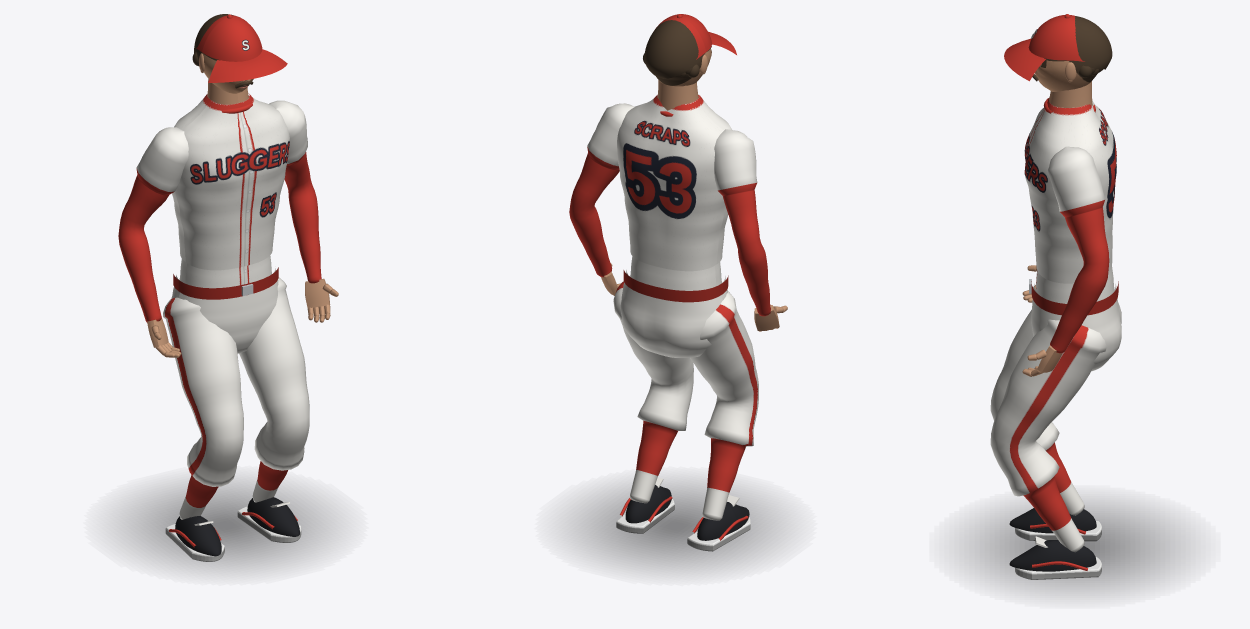
File: player_12_home.glb
3 views of the same model, side by side, from view 1: azimuth 30°, elevation 25°; view 2: azimuth 150°, elevation 25°; view 3: azimuth 270°, elevation 25° (orthographic). The views are drawn at different scales.
Parts seen in each view (by area): view 1: player_12_home, object 42, object 44, object 2; view 2: player_12_home, object 29, object 2, object 42; view 3: player_12_home, object 42, object 29, object 46, object 44, object 2.
Boxes of the visible parts, x1,y1,x2,y2 form: player_12_home: (117, 93, 334, 571); object 42: (196, 15, 262, 61); object 44: (208, 49, 287, 82); object 2: (207, 79, 248, 104); player_12_home: (568, 94, 783, 571); object 29: (644, 20, 711, 78); object 2: (657, 80, 698, 110); object 42: (655, 14, 711, 59); player_12_home: (964, 98, 1185, 593); object 42: (1028, 15, 1084, 61); object 29: (1044, 16, 1112, 69); object 46: (1035, 60, 1102, 91); object 44: (1004, 38, 1045, 81); object 2: (1049, 81, 1092, 107).
Bounding box in the file's own units: 3.13 × 5.82 × 3.13.
27 materials, 5 textured.
